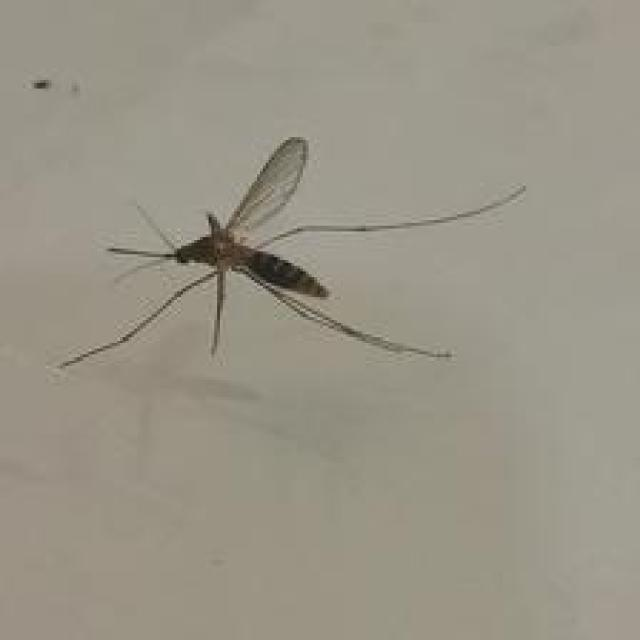Culex: (56, 134, 527, 372)
